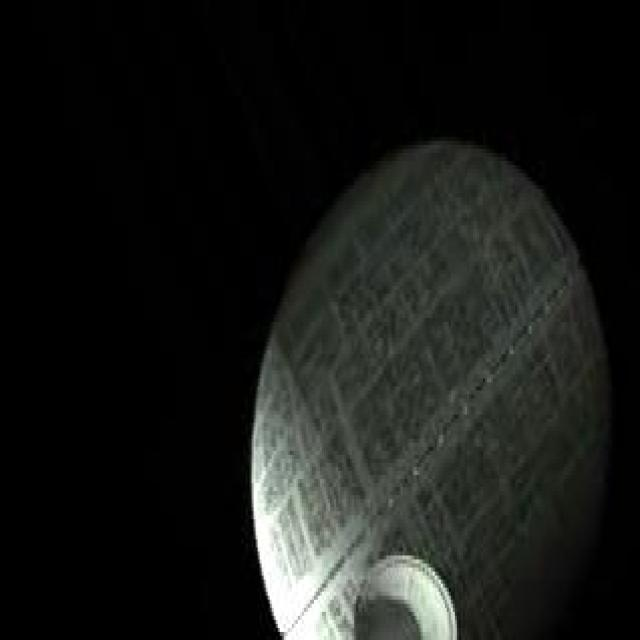deathstar: (249, 135, 614, 640)
